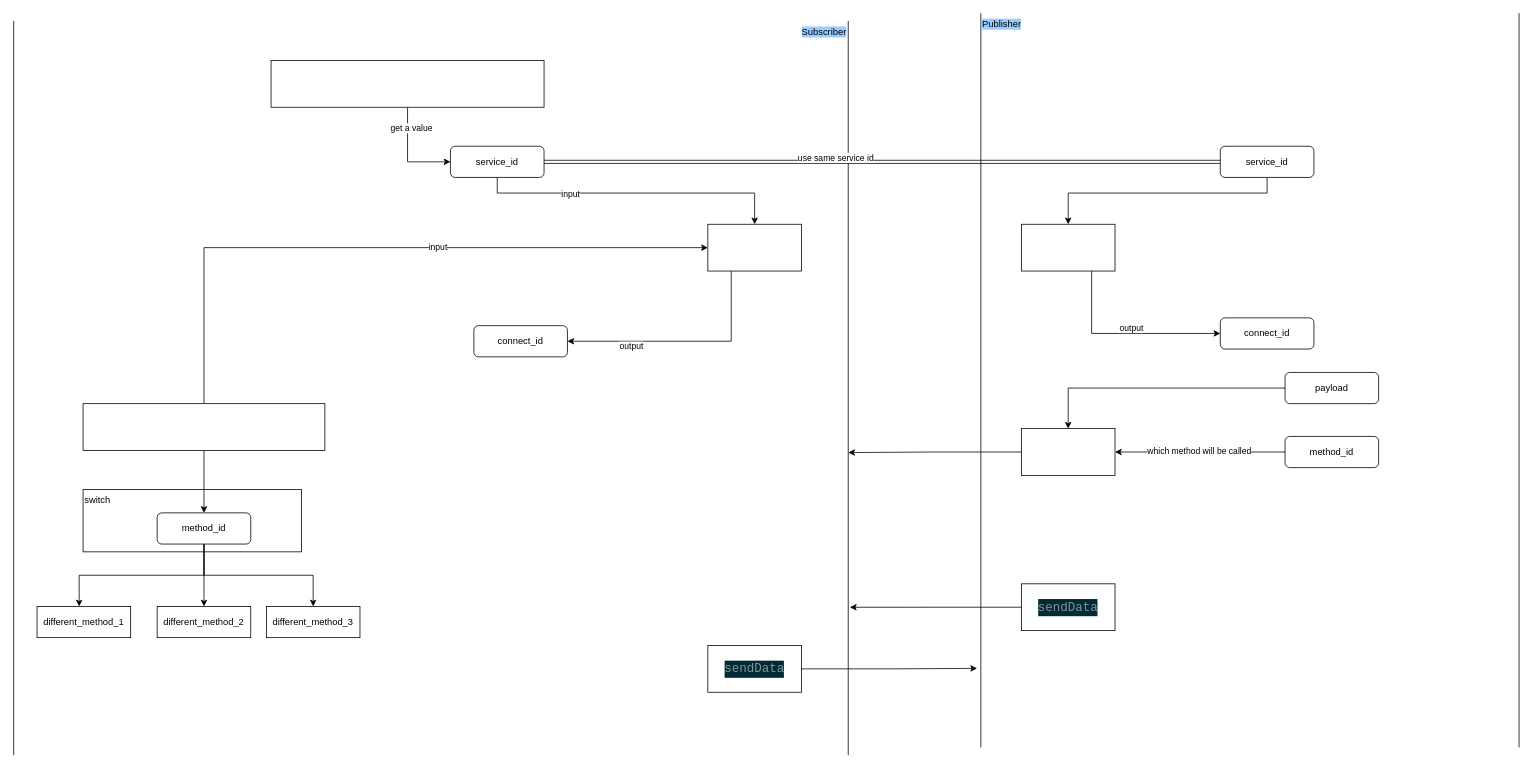
Some shapes in this 1533 by 768 pixel diagram are drawn without their labels. Here are the shapes that lost their labels. From the top down, the centre of each, then its label:
At [407,83]: "get_service_id()//from 0xff30-0xff40".
At [754,247]: "createReader".
At [1068,247]: "createWriter".
At [203,426]: "self_defined_read_callback".
At [1068,451]: "pub".
